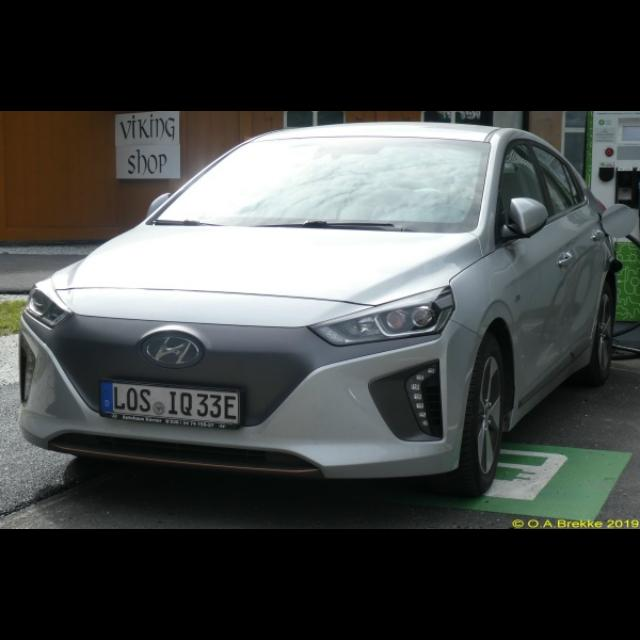d_license_plate: (100, 378, 238, 424)
